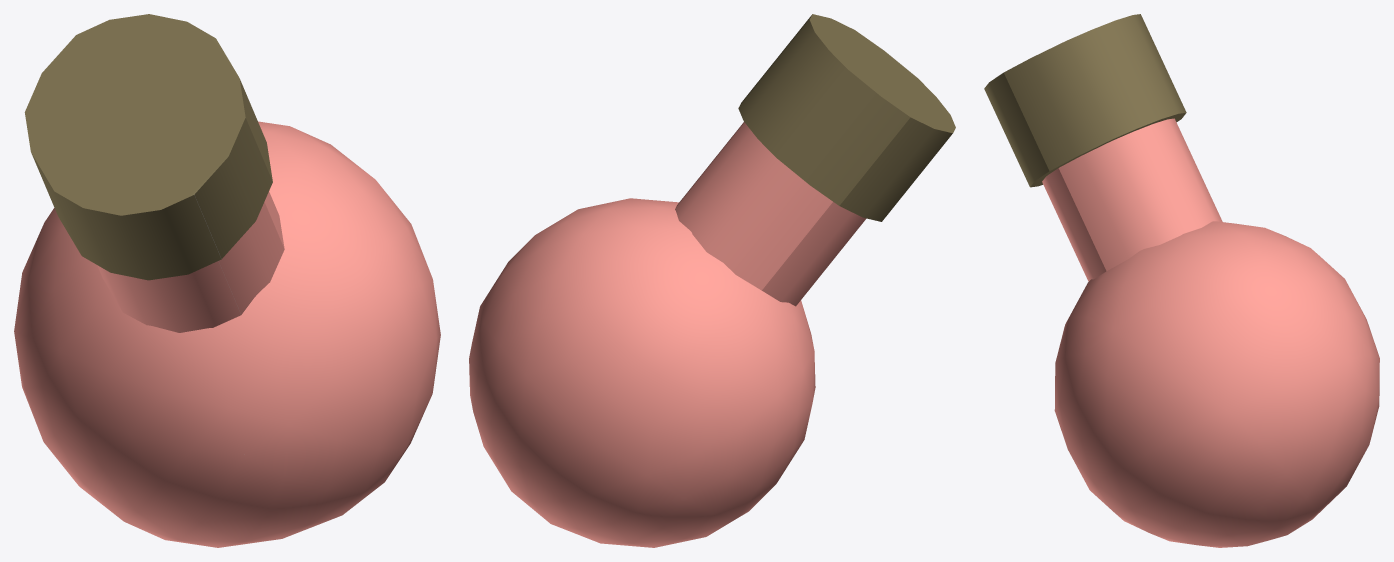
The model's file is HealerPotion.fbx.
The picture shows the model from 3 angles, left to right: view 1: azimuth 30°, elevation 25°; view 2: azimuth 150°, elevation 25°; view 3: azimuth 270°, elevation 25°; orthographic projection. The views are drawn at different scales.
Visible parts, largest first — view 1: Icosphere; view 2: Icosphere; view 3: Icosphere.
Part boxes in pixels (box(x1,y1,x2,y2)): Icosphere: box(14, 14, 440, 547); Icosphere: box(469, 14, 955, 547); Icosphere: box(984, 14, 1379, 547).
Size of the model in its own units: 226 by 277 by 217.
2 materials, 2 textured.
